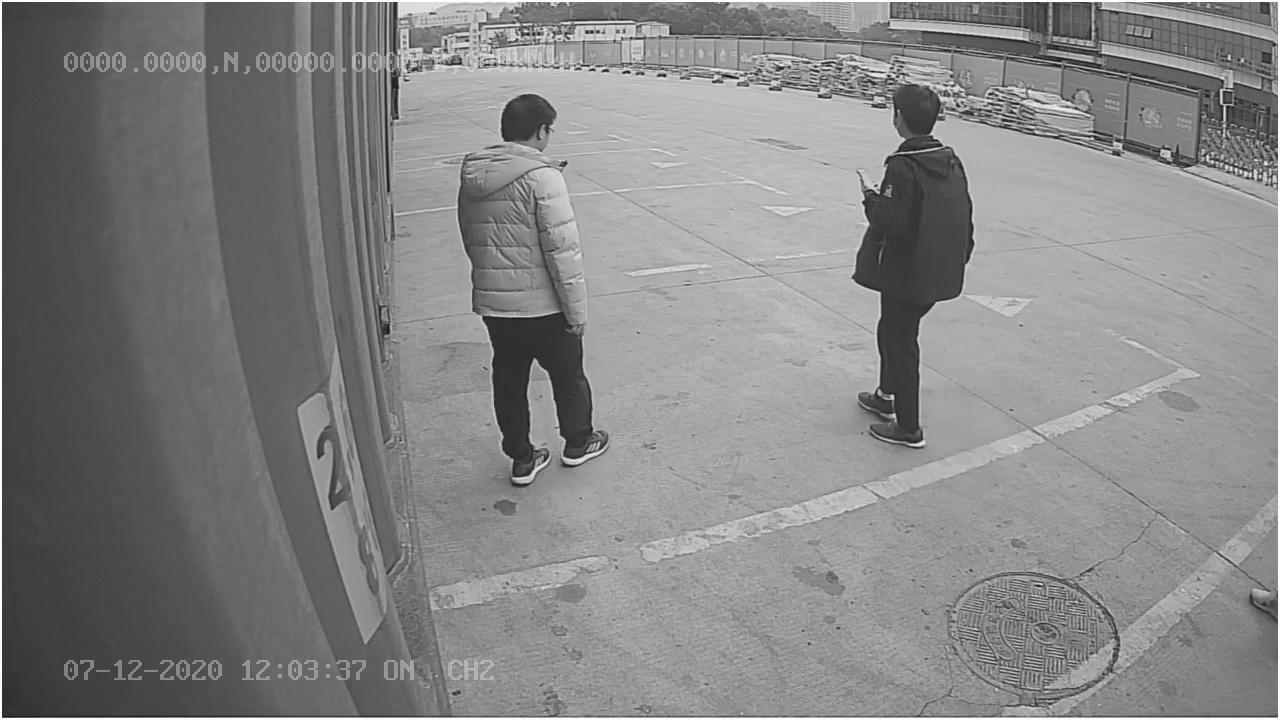person: (458, 90, 613, 487), (842, 80, 980, 449)
